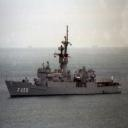Fragata: (5, 26, 124, 101)
